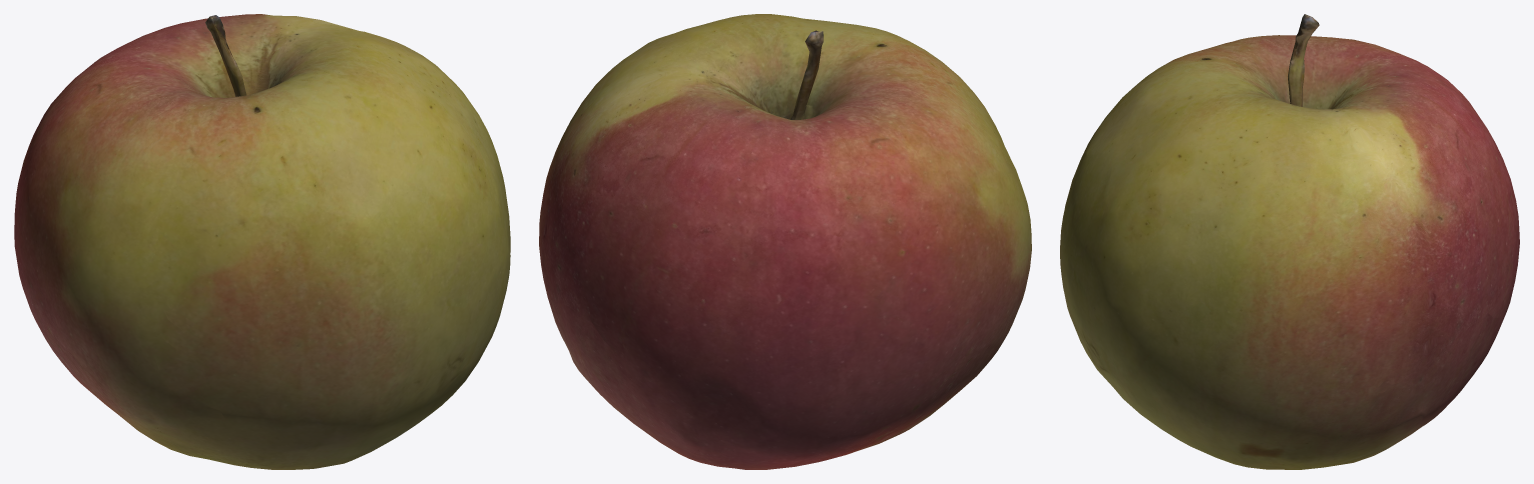
Rendered from apple.glb.
3 views of the same model, side by side, from view 1: azimuth 30°, elevation 25°; view 2: azimuth 150°, elevation 25°; view 3: azimuth 270°, elevation 25° (orthographic). The views are drawn at different scales.
Visible parts, largest first — view 1: node_Apple_-5386; view 2: node_Apple_-5386; view 3: node_Apple_-5386.
Boxes of the visible parts, x1,y1,x2,y2 form: node_Apple_-5386: (14, 14, 510, 469); node_Apple_-5386: (539, 14, 1031, 469); node_Apple_-5386: (1060, 14, 1519, 469).
Bounding box in the file's own units: 0.1908 × 0.1754 × 0.186.
Materials: 1 (1 with a texture image).
